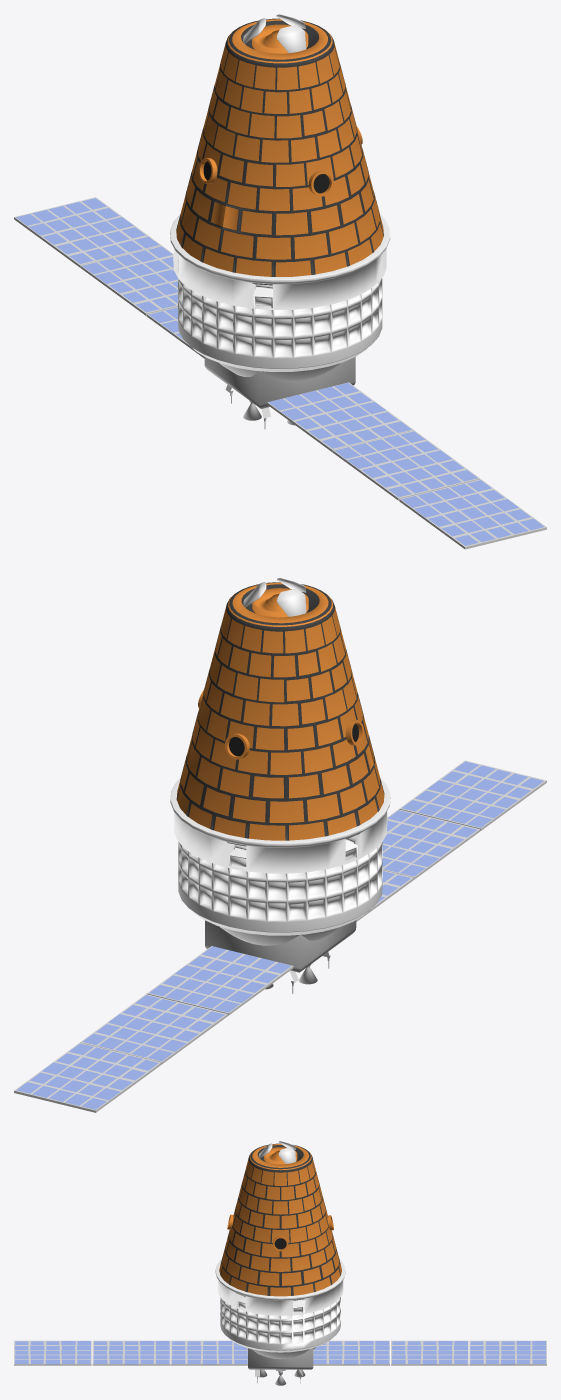
The model's file is gaganyaan vehicle.96e095cc.glb.
The picture shows the model from 3 angles, top to bottom: view 1: azimuth 30°, elevation 25°; view 2: azimuth 150°, elevation 25°; view 3: azimuth 270°, elevation 25°; orthographic projection. The views are drawn at different scales.
Parts seen in each view (by area): view 1: Cylinder, Cylinder.002, Cylinder.001, Plane.002, Plane.001, Plane.003, Plane, Plane.004, Cube, Sphere, Cylinder.011, Plane.005 (+1 smaller); view 2: Cylinder, Cylinder.002, Cylinder.001, Plane.003, Plane.002, Plane.004, Plane.005, Plane.001, Cube, Sphere, Cylinder.011, Plane (+1 smaller); view 3: Cylinder, Cylinder.002, Cylinder.001, Plane.001, Plane.002, Plane.003, Plane.004, Plane, Plane.005, Cube, Sphere.
Part boxes in pixels (<box>): Cylinder: <box>176,18,383,285</box>; Cylinder.002: <box>178,259,382,371</box>; Cylinder.001: <box>170,214,390,309</box>; Plane.002: <box>399,479,546,549</box>; Plane.001: <box>332,430,480,500</box>; Plane.003: <box>14,197,161,267</box>; Plane: <box>267,382,413,452</box>; Plane.004: <box>80,245,177,315</box>; Cube: <box>204,357,355,408</box>; Sphere: <box>219,363,340,381</box>; Cylinder.011: <box>252,24,308,53</box>; Plane.005: <box>146,306,204,358</box>; Cylinder: <box>176,582,384,846</box>; Cylinder.002: <box>178,840,382,935</box>; Cylinder.001: <box>170,777,390,873</box>; Plane.003: <box>14,1042,161,1112</box>; Plane.002: <box>399,760,546,830</box>; Plane.004: <box>80,994,227,1064</box>; Plane.005: <box>146,946,293,1015</box>; Plane.001: <box>382,809,480,879</box>; Cube: <box>205,920,356,972</box>; Sphere: <box>220,926,340,945</box>; Cylinder.011: <box>252,588,308,617</box>; Plane: <box>356,870,414,921</box>; Cylinder: <box>219,1143,341,1300</box>; Cylinder.002: <box>220,1297,340,1352</box>; Cylinder.001: <box>215,1259,345,1315</box>; Plane.001: <box>92,1340,170,1365</box>; Plane.002: <box>14,1340,91,1365</box>; Plane.003: <box>469,1340,546,1365</box>; Plane.004: <box>391,1340,468,1365</box>; Plane: <box>171,1340,247,1365</box>; Plane.005: <box>313,1340,389,1365</box>; Cube: <box>248,1348,313,1369</box>; Sphere: <box>244,1296,316,1359</box>.
Bounding box in the file's own units: 3.35 × 6.51 × 13.7.
